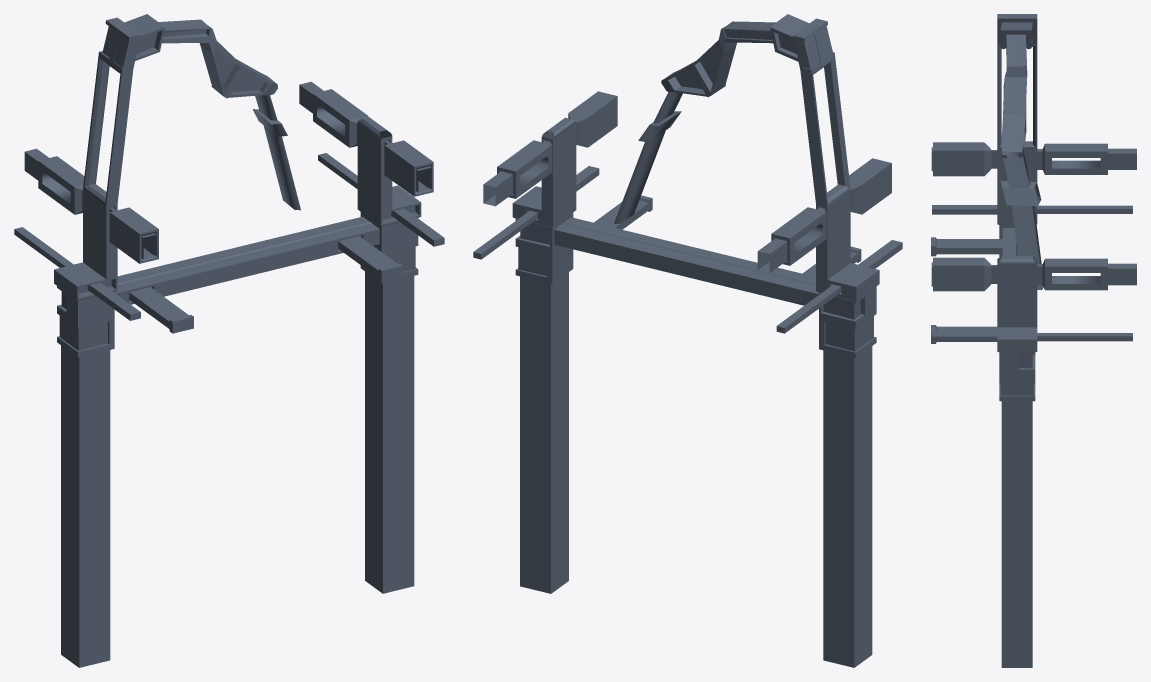
Rendered from GruaRota.fbx.
3 renders of one model, left to right at view 1: azimuth 30°, elevation 25°; view 2: azimuth 150°, elevation 25°; view 3: azimuth 270°, elevation 25°, orthographic. The views are drawn at different scales.
Parts seen in each view (by area): view 1: Soporte puente lateral.004; view 2: Soporte puente lateral.004; view 3: Soporte puente lateral.004.
Boxes of the visible parts, bbox=[...] form: Soporte puente lateral.004: bbox=[14, 14, 444, 667]; Soporte puente lateral.004: bbox=[473, 14, 902, 667]; Soporte puente lateral.004: bbox=[931, 14, 1136, 667].
Bounding box in the file's own units: 1289 × 2222 × 777.
